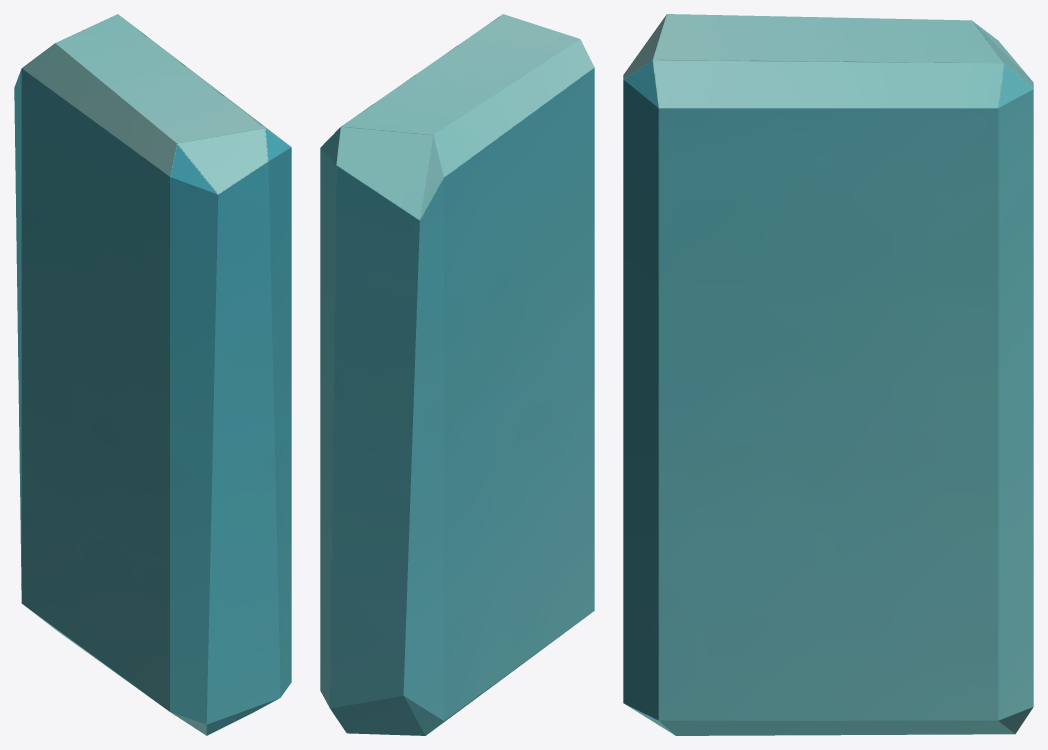
File: BlueThinBlock.fbx
The picture shows the model from 3 angles, left to right: view 1: azimuth 30°, elevation 25°; view 2: azimuth 150°, elevation 25°; view 3: azimuth 270°, elevation 25°; orthographic projection. The views are drawn at different scales.
Parts seen in each view (by area): view 1: Cube.002; view 2: Cube.002; view 3: Cube.002.
Boxes of the visible parts, left/top/right/bottom form: Cube.002: left=14, top=14, right=291, bottom=735; Cube.002: left=320, top=14, right=594, bottom=735; Cube.002: left=623, top=14, right=1033, bottom=735.
Size of the model in its own units: 21.97 by 102 by 56.12.
